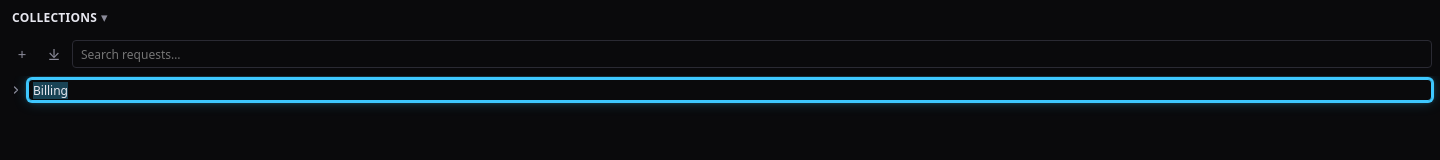
Test: SidebarPanel › shows a rename failure under the name input and keeps the rejected text
Step 1. Replace the text in the field named "Name" with "Taken" → (730, 90), box top-left (28, 79), bottom-right (1432, 101)
Then press Enter
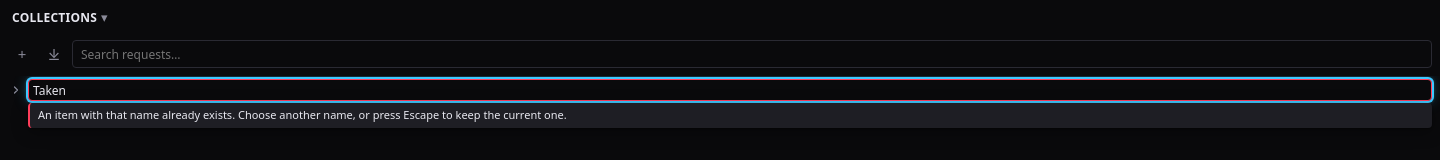
Expected: the message shows "An item with that name already exists. Choose another name", top-left (38, 107), bottom-right (567, 122)
Step 2. Type "2" into the field named "Name" → (730, 90), box top-left (28, 79), bottom-right (1432, 101)
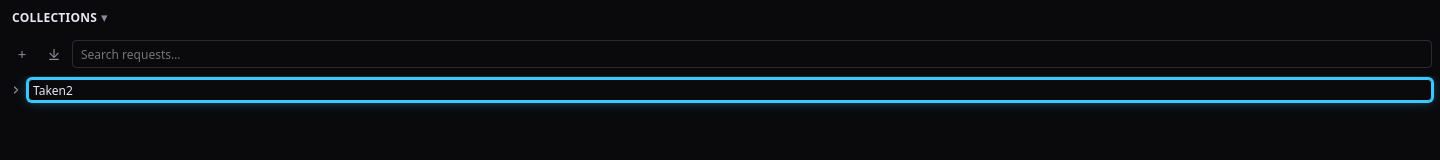
Expected: the message is gone
